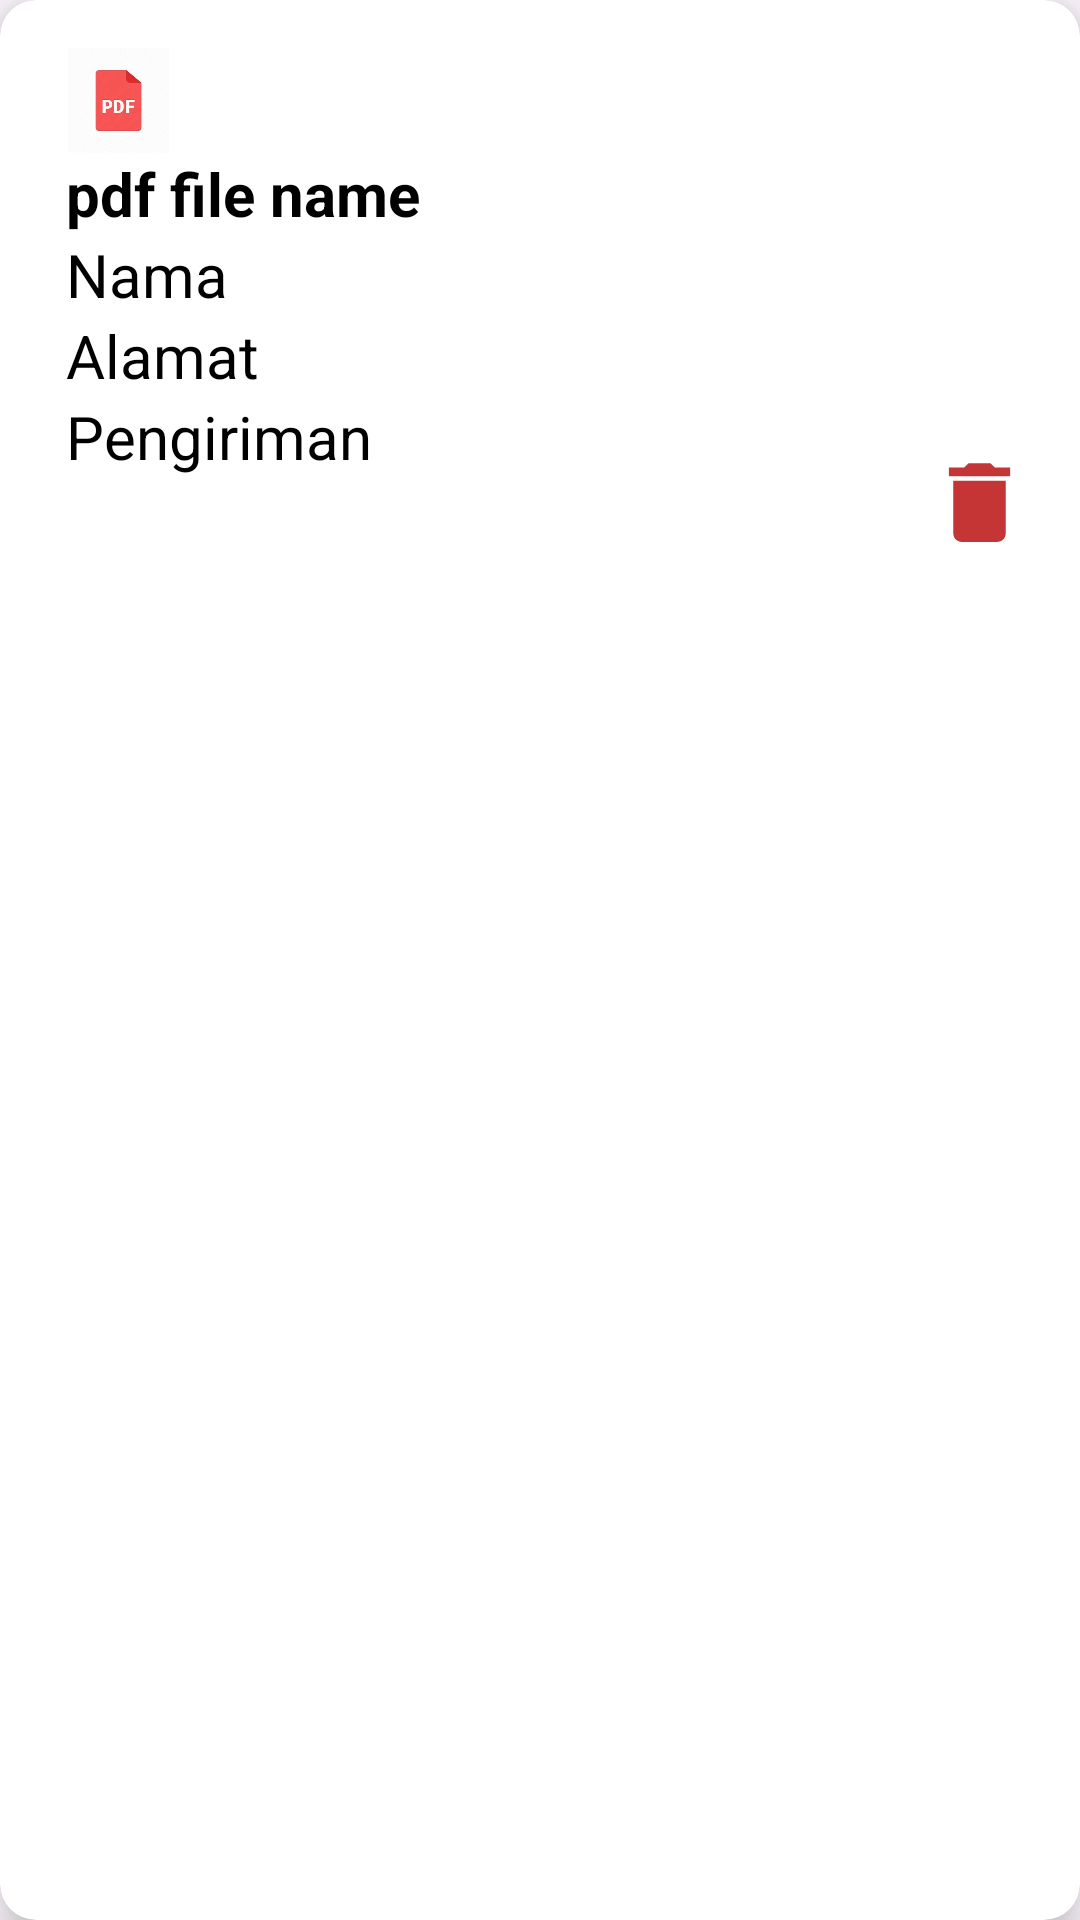

Icons on this 1080 × 1920 Android screen, each with the point to tap as point (x, y):
delete: point (979, 502)
